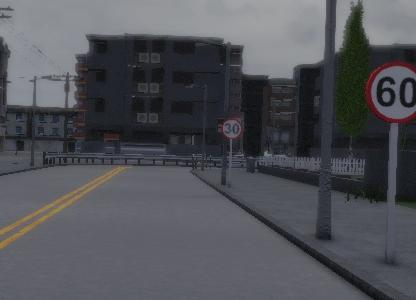Speed_60: (364, 59, 416, 125)
